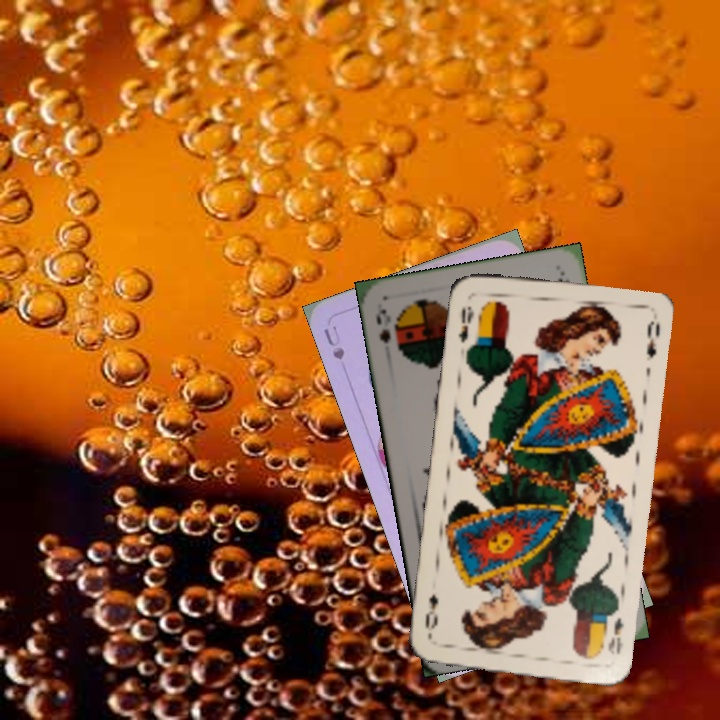EO: (604, 613, 627, 658), (453, 302, 476, 345)
SO: (372, 305, 393, 346)
SU: (319, 321, 348, 362)
